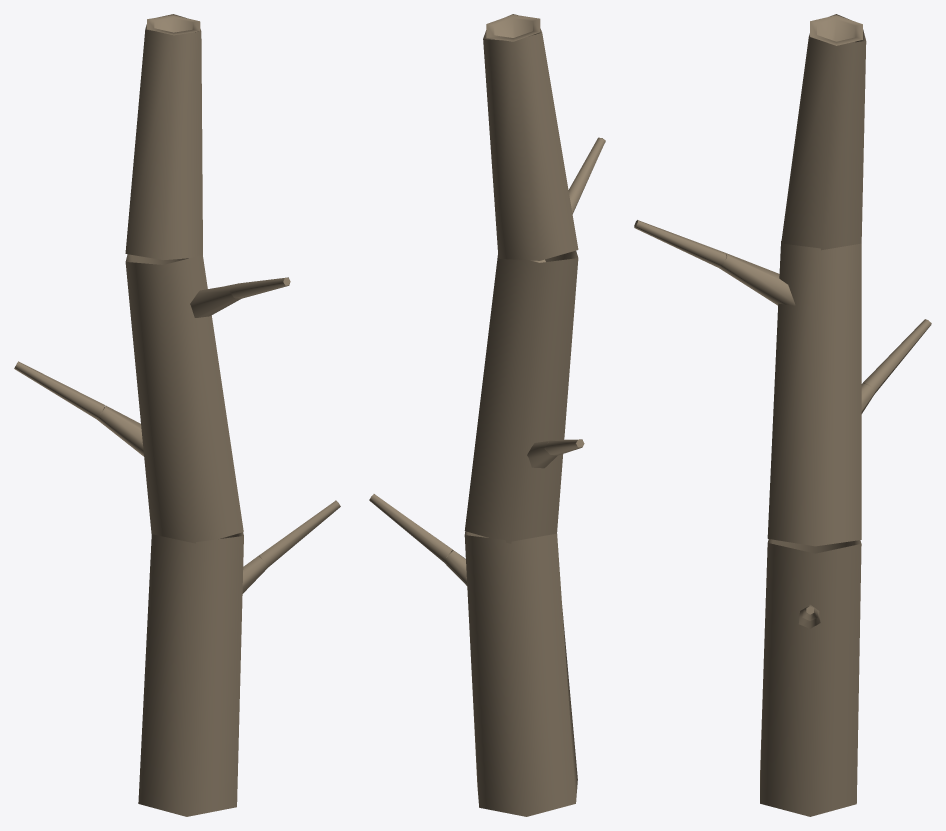
Rendered from fallen_log_lod1.glb.
The picture shows the model from 3 angles, left to right: view 1: azimuth 30°, elevation 25°; view 2: azimuth 150°, elevation 25°; view 3: azimuth 270°, elevation 25°; orthographic projection. The views are drawn at different scales.
Parts seen in each view (by area): view 1: Bark; view 2: Bark; view 3: Bark.
Boxes of the visible parts, bbox=[...] form: Bark: bbox=[14, 14, 340, 816]; Bark: bbox=[369, 14, 605, 816]; Bark: bbox=[634, 14, 931, 816].
Bounding box in the file's own units: 1.77 × 4.83 × 1.7.
